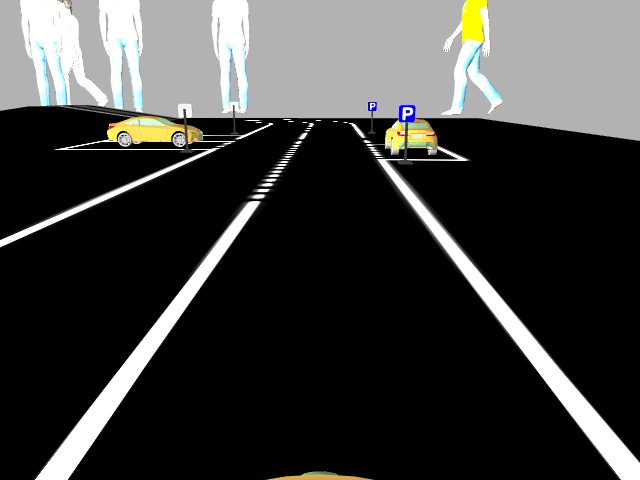Parking: (397, 104, 416, 122), (367, 100, 377, 111)
